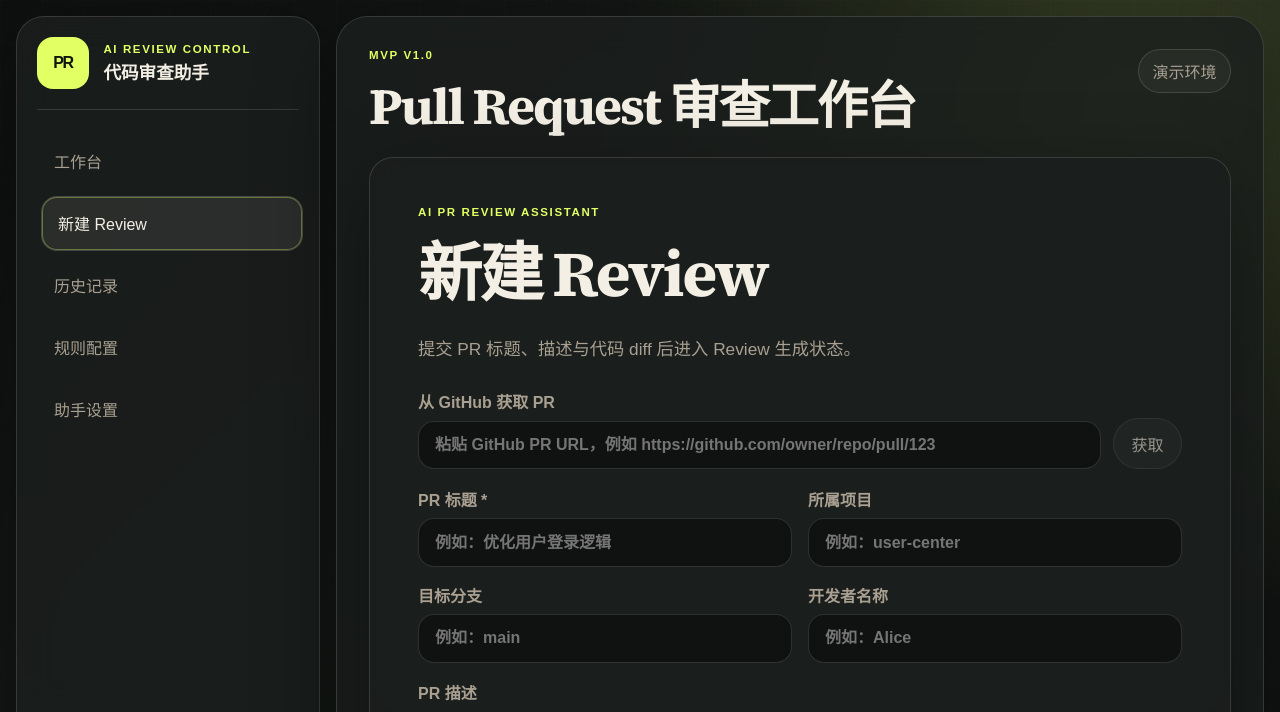
Test case: PR fetch on new review page › populates form fields on successful fetch
The width and height of the screenshot is (1280, 712).
In the field with placeholder "粘贴 GitHub PR URL，例如 https://github.com/owner/repo/pull/123": (759, 445) top-left (418, 420), bottom-right (1101, 469), type "https://github.com/owner/repo/pull/1"
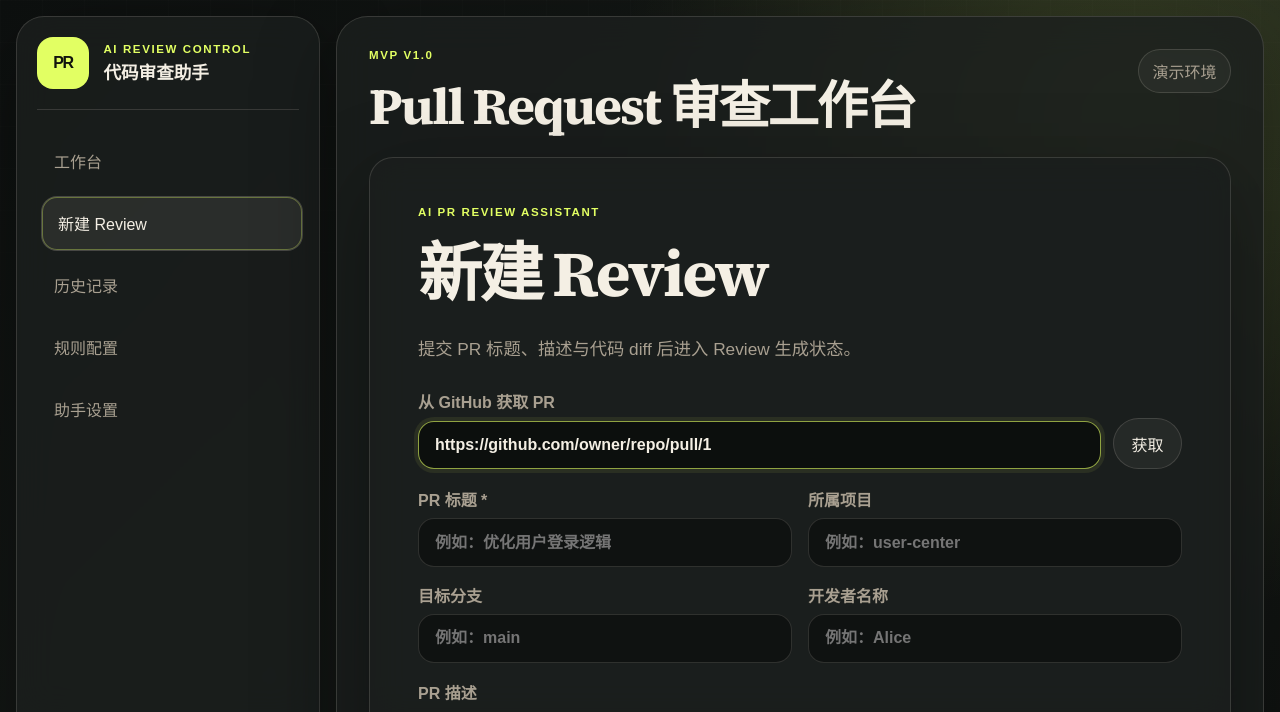
Click the button "获取": (1147, 444) top-left (1113, 418), bottom-right (1182, 469)
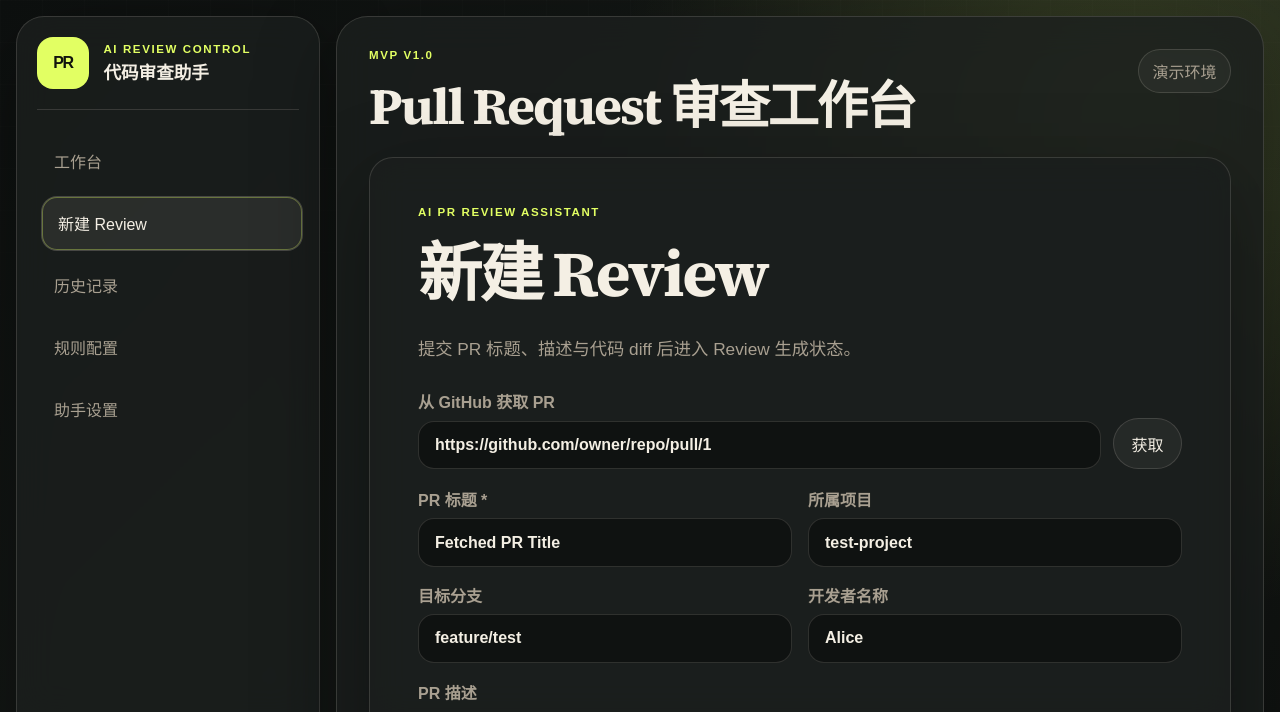
expect the field with placeholder "例如：优化用户登录逻辑" holds "Fetched PR Title": met, box top-left (418, 518), bottom-right (792, 567)
expect the field with placeholder "例如：user-center" holds "test-project": met, box top-left (808, 518), bottom-right (1182, 567)
expect the field with placeholder "例如：main" holds "feature/test": met, box top-left (418, 614), bottom-right (792, 663)
